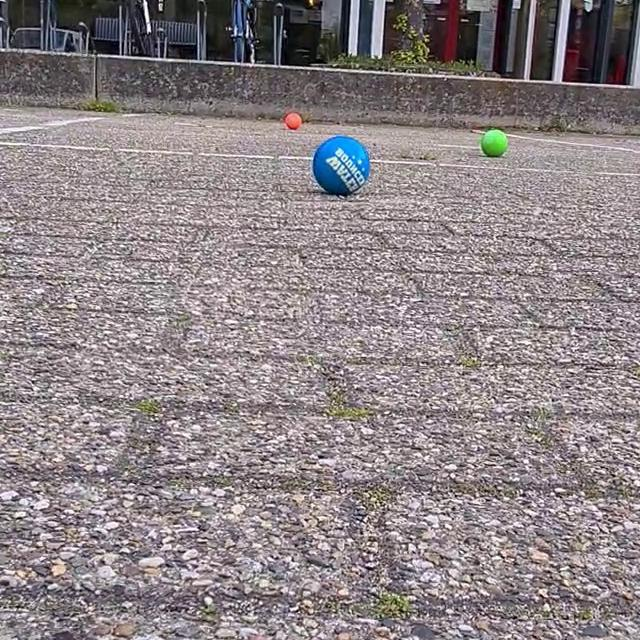ball: (482, 125, 511, 161), (280, 108, 307, 132)
